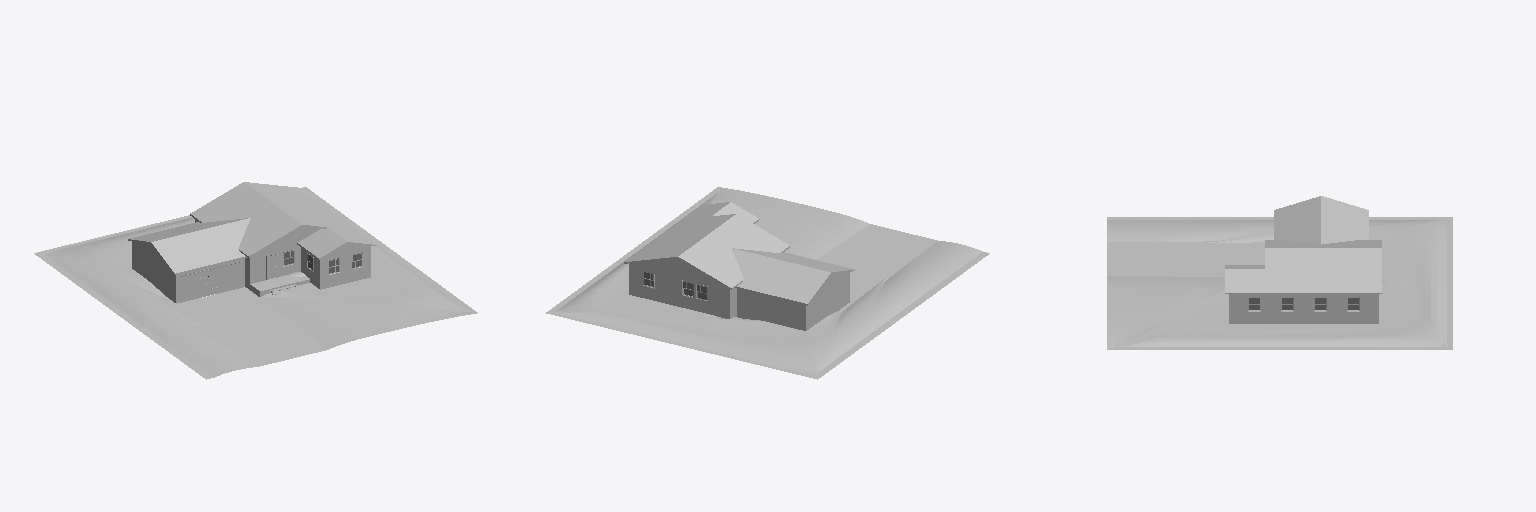
The model's file is cara.obj.
The picture shows the model from 3 angles: view 1: azimuth 30°, elevation 25°; view 2: azimuth 150°, elevation 25°; view 3: azimuth 270°, elevation 25°; orthographic projection.
Parts seen in each view (by area): view 1: Material2.010, Material2.006, Material2.008, Material2.007, Material2.001, Material2; view 2: Material2.010, Material2.006, Material2.007, Material2.008, Material2.001; view 3: Material2.010, Material2.006, Material2.008, Material2.007.
Part boxes in pixels (x1,y1,x2,y2): Material2.010: (34,187,477,379); Material2.006: (130,182,374,273); Material2.008: (181,288,325,364); Material2.007: (132,219,370,300); Material2.001: (128,214,375,302); Material2: (250,275,309,294); Material2.010: (546,187,989,379); Material2.006: (625,202,854,303); Material2.007: (629,258,849,330); Material2.008: (820,224,929,297); Material2.001: (624,219,854,305); Material2.010: (1107,217,1452,349); Material2.006: (1225,196,1381,292); Material2.008: (1107,246,1264,275); Material2.007: (1229,294,1378,320).
Bounding box in the file's own units: 1037 × 198 × 1139.